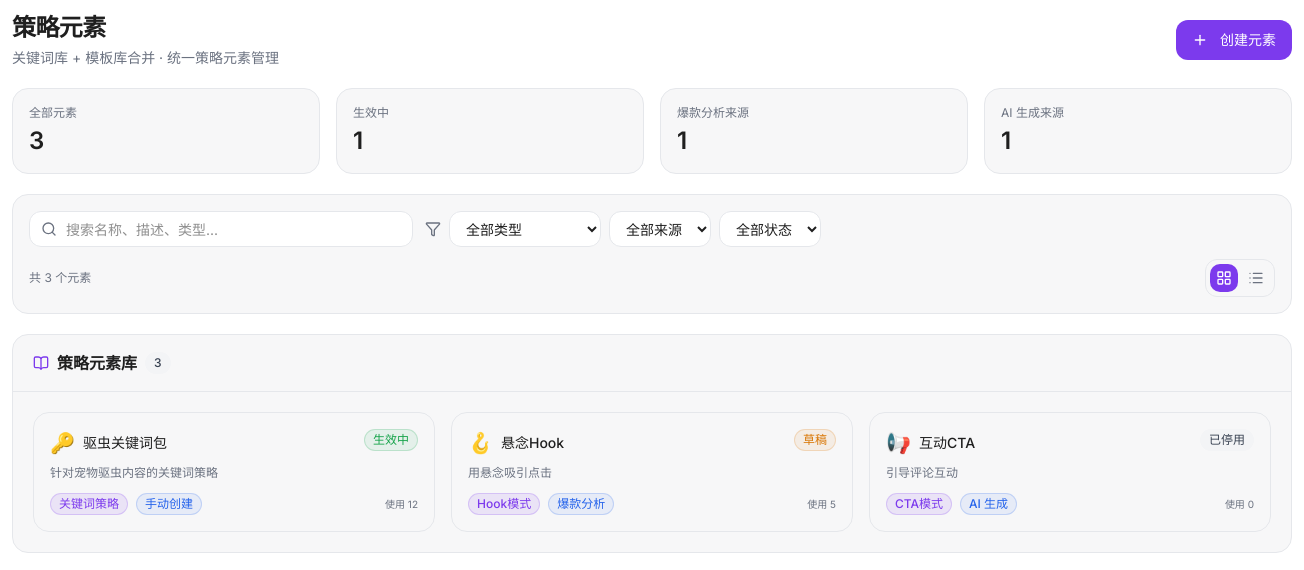
Test case: StrategyElementsPage › filters by status
Select "草稿" in the 3rd dropdown showing "全部状态" at (770, 229), box 719,211 -> 821,247
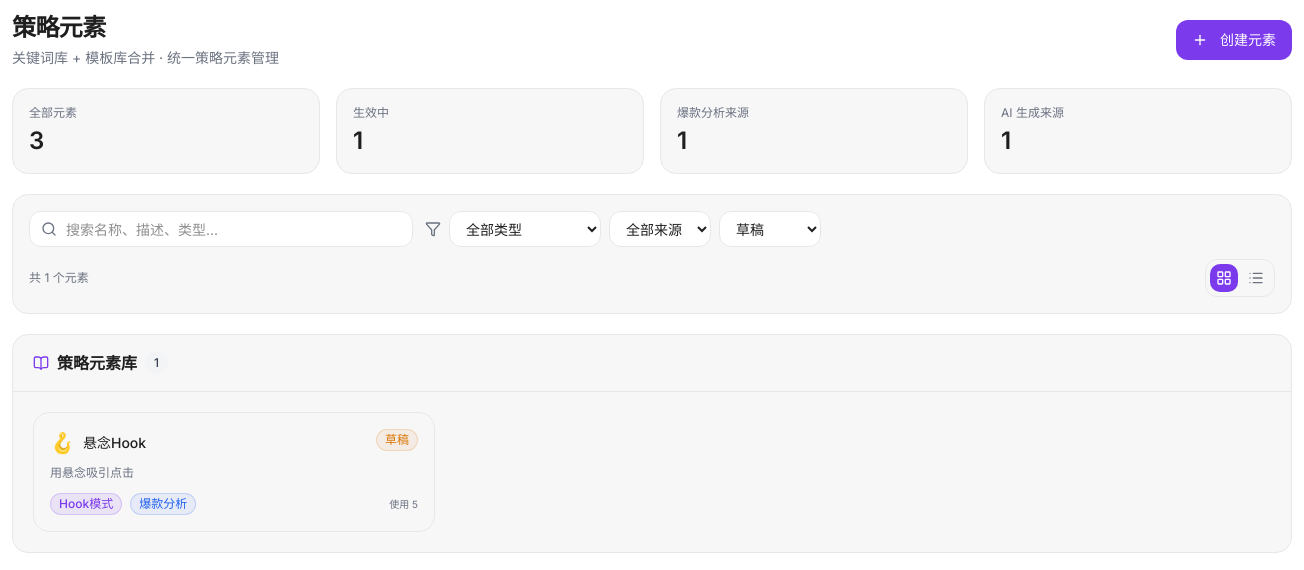
Expected: the heading "悬念Hook" is shown, 83,433 -> 146,453
Now the button "驱虫关键词包" is gone
Now the button "互动CTA" is gone
